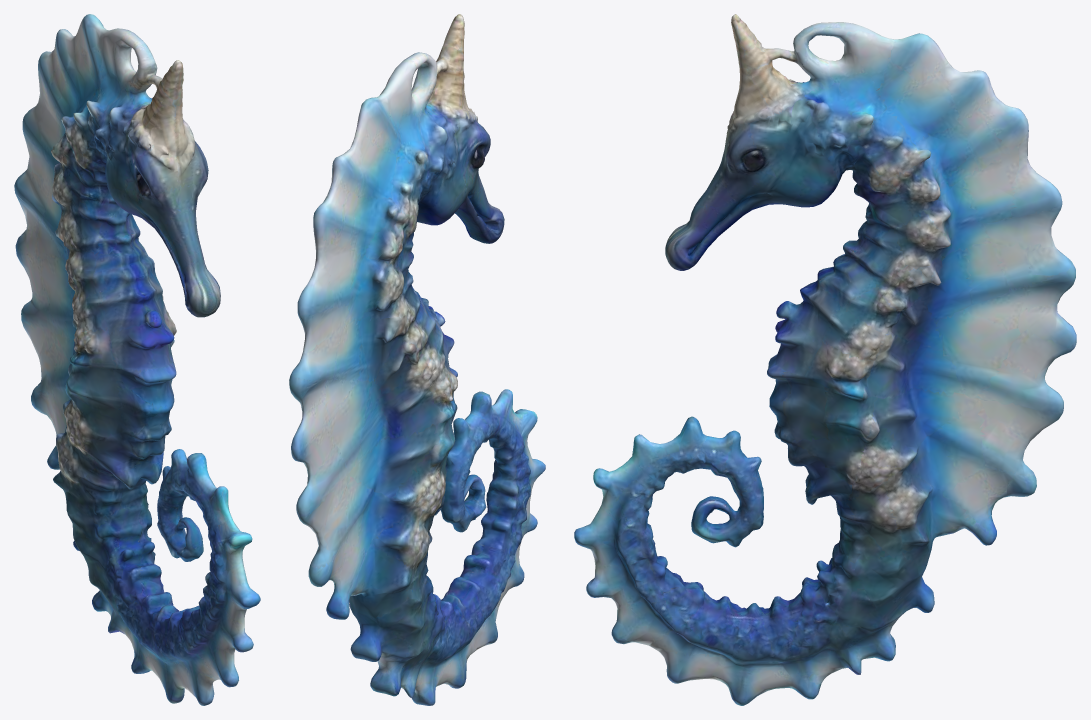
The picture shows the model from 3 angles, left to right: view 1: azimuth 30°, elevation 25°; view 2: azimuth 150°, elevation 25°; view 3: azimuth 270°, elevation 25°; orthographic projection. The views are drawn at different scales.
Size of the model in its own units: 0.3271 by 1.99 by 1.32.
1 material, 1 textured.
